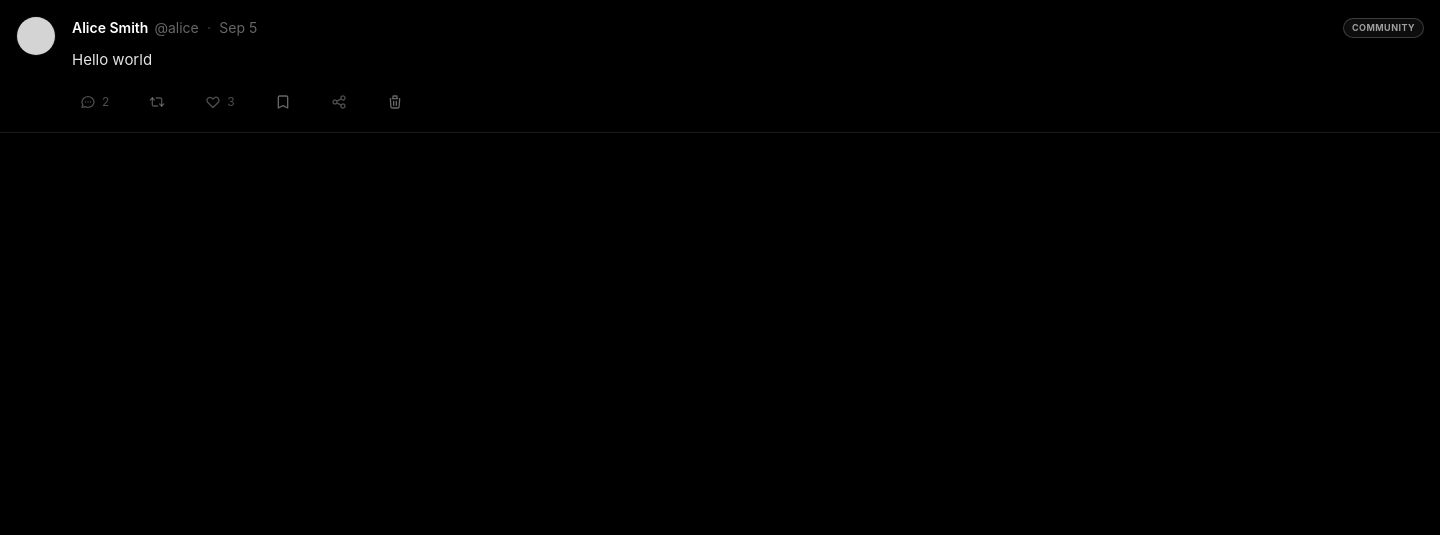
Test: PostCard › opens the delete confirmation modal when the delete button is clicked
This screenshot has width=1440, height=535.
Click the button named "delete post": [395, 102] box [379, 88, 411, 116]
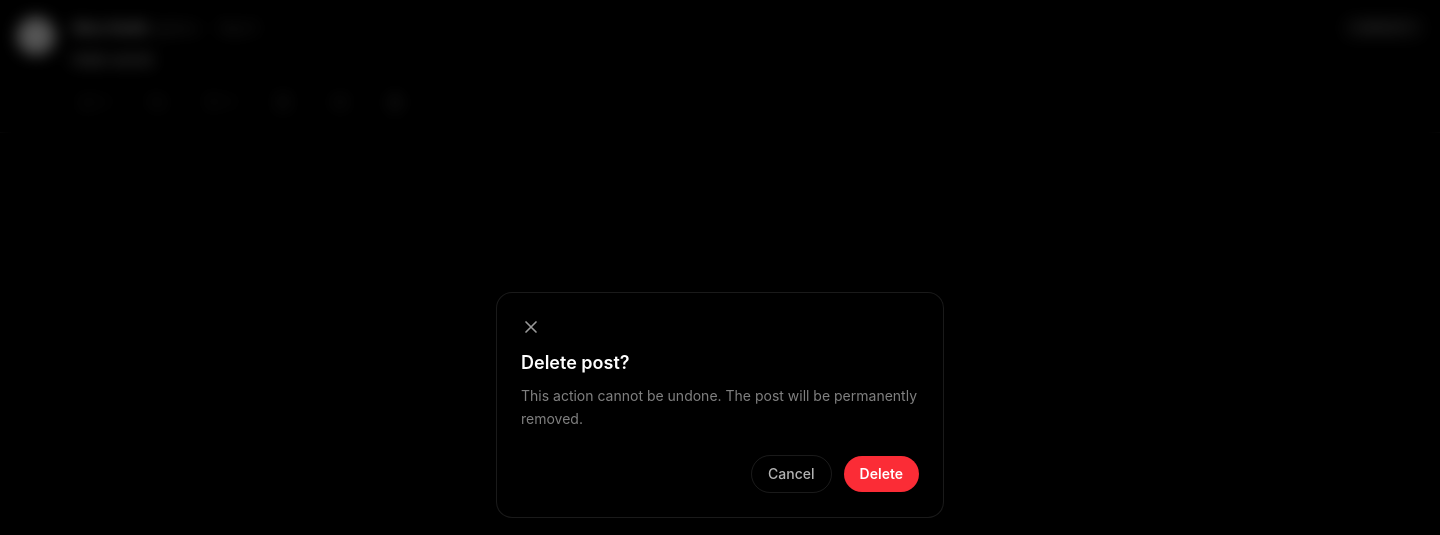
Now the heading "Delete post?" is shown, box [521, 352, 630, 373]
